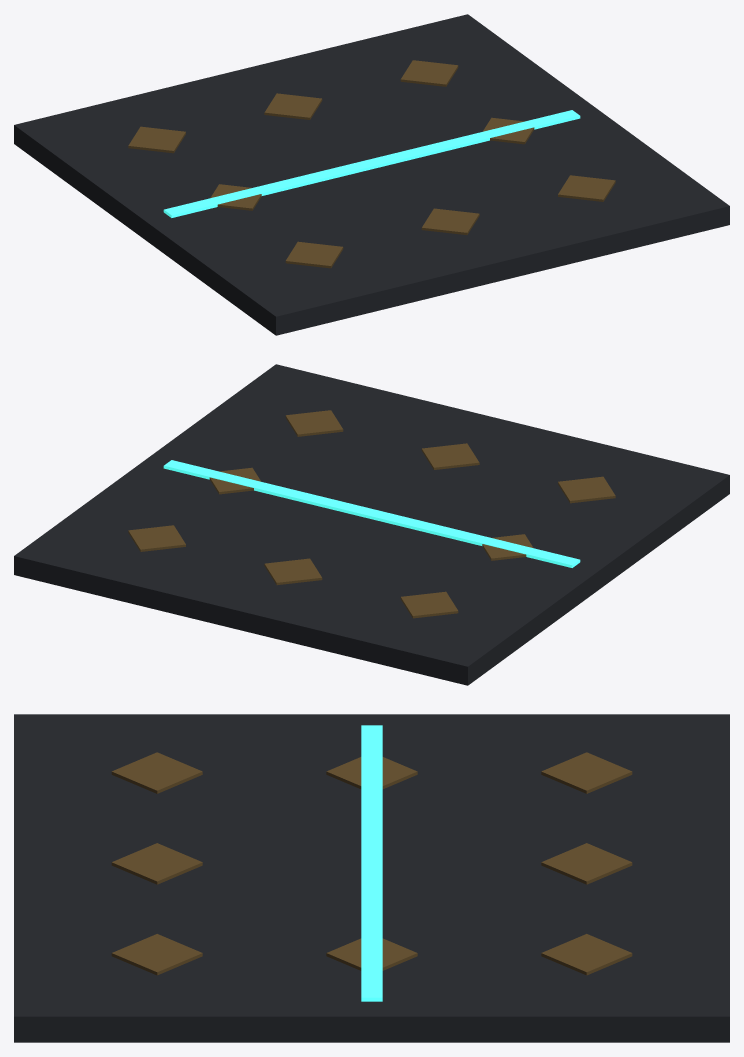
The model's file is SM_Wall_DvergrPlate_08_Floor.glb.
3 renders of one model, top to bottom at view 1: azimuth 30°, elevation 25°; view 2: azimuth 150°, elevation 25°; view 3: azimuth 270°, elevation 25°, orthographic. The views are drawn at different scales.
Visible parts, largest first — view 1: SM_Wall_DvergrPlate_08_Floor_Slab, SM_Wall_DvergrPlate_08_Floor_TealSeam, SM_Wall_DvergrPlate_08_Floor_Diamond1, SM_Wall_DvergrPlate_08_Floor_Diamond6, SM_Wall_DvergrPlate_08_Floor_Diamond7, SM_Wall_DvergrPlate_08_Floor_Diamond0, SM_Wall_DvergrPlate_08_Floor_Diamond5, SM_Wall_DvergrPlate_08_Floor_Diamond2, SM_Wall_DvergrPlate_08_Floor_Diamond4, SM_Wall_DvergrPlate_08_Floor_Diamond3; view 2: SM_Wall_DvergrPlate_08_Floor_Slab, SM_Wall_DvergrPlate_08_Floor_TealSeam, SM_Wall_DvergrPlate_08_Floor_Diamond6, SM_Wall_DvergrPlate_08_Floor_Diamond1, SM_Wall_DvergrPlate_08_Floor_Diamond2, SM_Wall_DvergrPlate_08_Floor_Diamond0, SM_Wall_DvergrPlate_08_Floor_Diamond5, SM_Wall_DvergrPlate_08_Floor_Diamond7, SM_Wall_DvergrPlate_08_Floor_Diamond4, SM_Wall_DvergrPlate_08_Floor_Diamond3; view 3: SM_Wall_DvergrPlate_08_Floor_Slab, SM_Wall_DvergrPlate_08_Floor_TealSeam, SM_Wall_DvergrPlate_08_Floor_Diamond0, SM_Wall_DvergrPlate_08_Floor_Diamond5, SM_Wall_DvergrPlate_08_Floor_Diamond1, SM_Wall_DvergrPlate_08_Floor_Diamond6, SM_Wall_DvergrPlate_08_Floor_Diamond2, SM_Wall_DvergrPlate_08_Floor_Diamond7, SM_Wall_DvergrPlate_08_Floor_Diamond4, SM_Wall_DvergrPlate_08_Floor_Diamond3.
Boxes of the visible parts, box(x1,y1,x2,y2) form: SM_Wall_DvergrPlate_08_Floor_Slab: box(14, 14, 729, 335); SM_Wall_DvergrPlate_08_Floor_TealSeam: box(163, 110, 580, 217); SM_Wall_DvergrPlate_08_Floor_Diamond1: box(421, 208, 479, 235); SM_Wall_DvergrPlate_08_Floor_Diamond6: box(264, 93, 322, 119); SM_Wall_DvergrPlate_08_Floor_Diamond7: box(400, 60, 458, 86); SM_Wall_DvergrPlate_08_Floor_Diamond0: box(285, 241, 343, 268); SM_Wall_DvergrPlate_08_Floor_Diamond5: box(128, 126, 185, 153); SM_Wall_DvergrPlate_08_Floor_Diamond2: box(558, 175, 615, 201); SM_Wall_DvergrPlate_08_Floor_Diamond4: box(483, 117, 534, 144); SM_Wall_DvergrPlate_08_Floor_Diamond3: box(210, 184, 261, 210); SM_Wall_DvergrPlate_08_Floor_Slab: box(14, 364, 729, 685); SM_Wall_DvergrPlate_08_Floor_TealSeam: box(163, 460, 580, 567); SM_Wall_DvergrPlate_08_Floor_Diamond6: box(264, 558, 322, 585); SM_Wall_DvergrPlate_08_Floor_Diamond1: box(421, 443, 479, 469); SM_Wall_DvergrPlate_08_Floor_Diamond2: box(285, 410, 343, 436); SM_Wall_DvergrPlate_08_Floor_Diamond0: box(558, 476, 615, 503); SM_Wall_DvergrPlate_08_Floor_Diamond5: box(400, 591, 458, 618); SM_Wall_DvergrPlate_08_Floor_Diamond7: box(128, 525, 185, 551); SM_Wall_DvergrPlate_08_Floor_Diamond4: box(209, 467, 260, 494); SM_Wall_DvergrPlate_08_Floor_Diamond3: box(482, 534, 533, 560); SM_Wall_DvergrPlate_08_Floor_Slab: box(14, 714, 729, 1042); SM_Wall_DvergrPlate_08_Floor_TealSeam: box(361, 725, 382, 1001); SM_Wall_DvergrPlate_08_Floor_Diamond0: box(111, 752, 202, 793); SM_Wall_DvergrPlate_08_Floor_Diamond5: box(541, 752, 632, 793); SM_Wall_DvergrPlate_08_Floor_Diamond1: box(111, 843, 202, 884); SM_Wall_DvergrPlate_08_Floor_Diamond6: box(541, 843, 632, 884); SM_Wall_DvergrPlate_08_Floor_Diamond2: box(111, 934, 202, 975); SM_Wall_DvergrPlate_08_Floor_Diamond7: box(541, 934, 632, 975); SM_Wall_DvergrPlate_08_Floor_Diamond4: box(326, 938, 417, 970); SM_Wall_DvergrPlate_08_Floor_Diamond3: box(326, 757, 417, 788).
Size of the model in its own units: 2 by 0.092 by 2.
